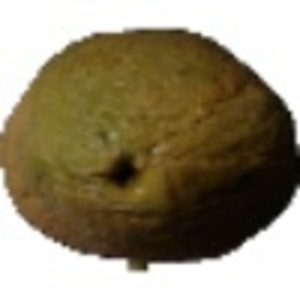mamão: (2, 21, 294, 261)
